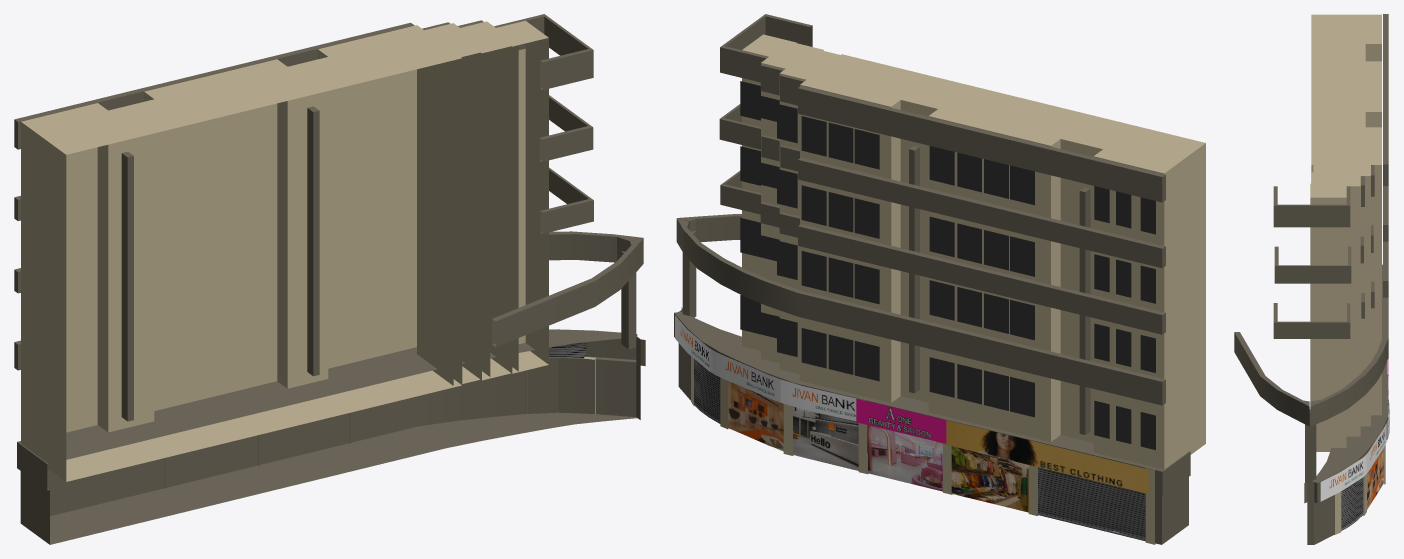
File: Ujjivan Bank. fbx.fbx
3 views of the same model, side by side, from view 1: azimuth 30°, elevation 25°; view 2: azimuth 150°, elevation 25°; view 3: azimuth 270°, elevation 25° (orthographic). The views are drawn at different scales.
Parts seen in each view (by area): view 1: polySurface593, polySurface520, polySurface655; view 2: polySurface520, polySurface593, polySurface655, pPlane17, polySurface666, polySurface664, polySurface378, polySurface665, pPlane15, polySurface663, pPlane13, pPlane14; view 3: polySurface520, polySurface593, polySurface655, polySurface378, pPlane14, pPlane13, polySurface663.
Part boxes in pixels (x1,y1,x2,y2): polySurface593: [21, 25, 462, 481]; polySurface520: [14, 14, 643, 421]; polySurface655: [17, 329, 645, 544]; polySurface520: [676, 14, 1165, 449]; polySurface593: [800, 54, 1205, 469]; polySurface655: [674, 307, 1190, 544]; pPlane17: [856, 398, 946, 491]; polySurface666: [1038, 467, 1145, 541]; polySurface664: [936, 418, 1148, 493]; polySurface378: [675, 315, 865, 421]; polySurface665: [951, 446, 1028, 512]; pPlane15: [793, 407, 858, 470]; polySurface663: [691, 356, 1156, 544]; pPlane13: [728, 381, 783, 451]; pPlane14: [694, 359, 720, 423]; polySurface520: [1234, 14, 1388, 482]; polySurface593: [1311, 14, 1381, 415]; polySurface655: [1304, 264, 1388, 544]; polySurface378: [1320, 390, 1389, 501]; pPlane14: [1341, 477, 1363, 530]; pPlane13: [1367, 449, 1383, 509]; polySurface663: [1334, 445, 1385, 534].
Bounding box in the file's own units: 39.95 × 26.61 × 11.94.
